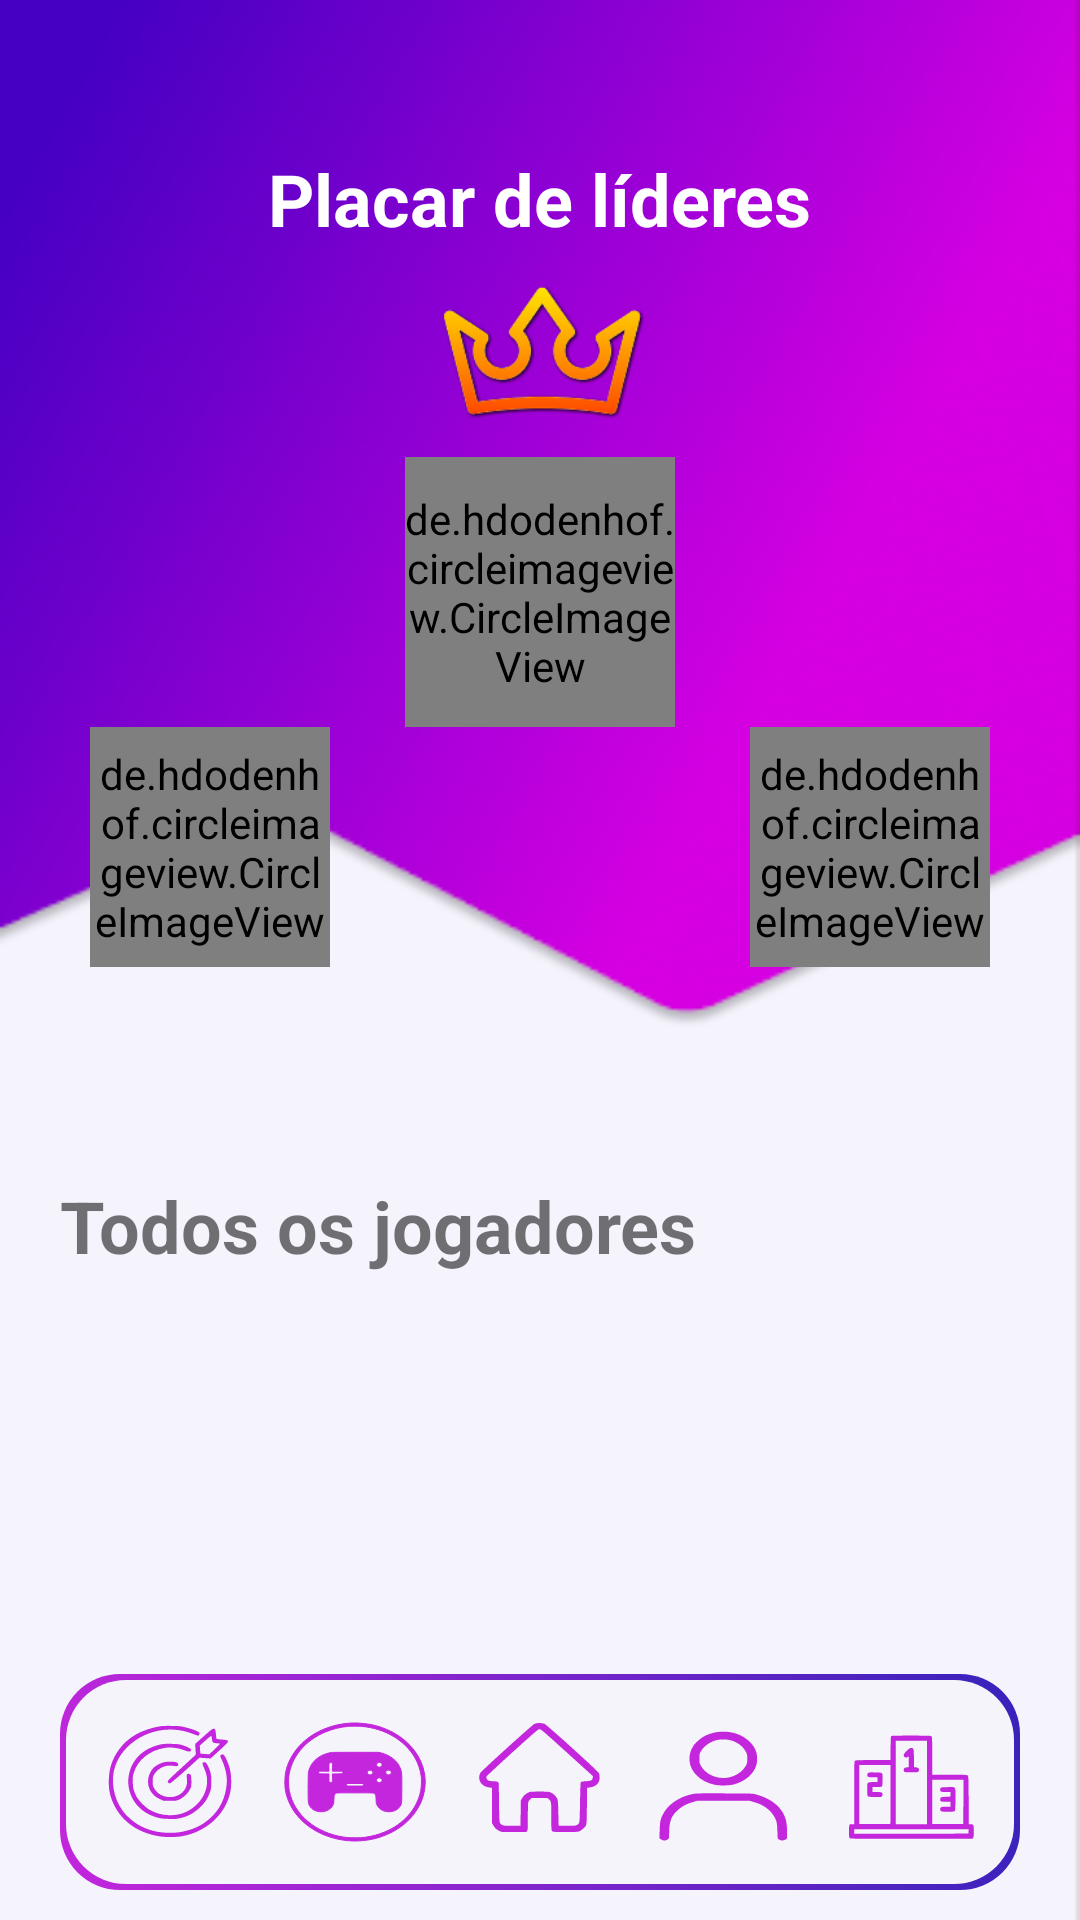

Icon click points for this 1080x1920 phone screenshot, format (x,y):
control: (355,1782)
coroa: (540,352)
home: (539,1777)
person: (723,1786)
ranking: (911,1787)
target: (170,1781)
